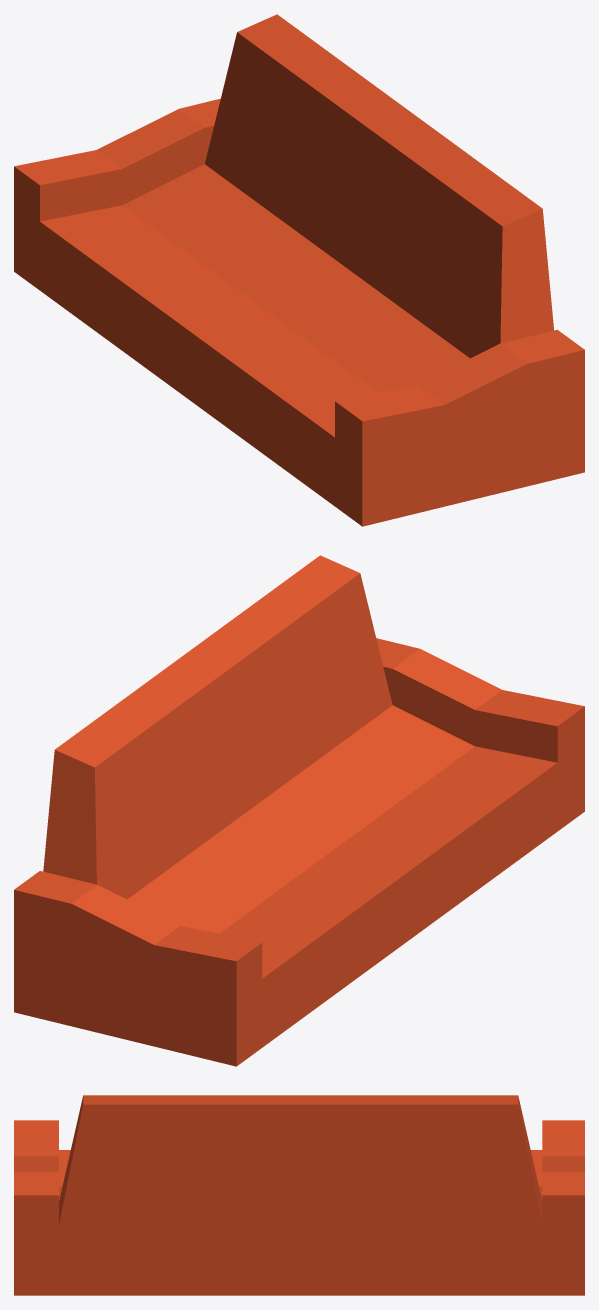
File: Sofa.glb
The picture shows the model from 3 angles, top to bottom: view 1: azimuth 30°, elevation 25°; view 2: azimuth 150°, elevation 25°; view 3: azimuth 270°, elevation 25°; orthographic projection. The views are drawn at different scales.
Parts seen in each view (by area): view 1: Sofa-col; view 2: Sofa-col; view 3: Sofa-col.
Part boxes in pixels (left/top/right/bottom): Sofa-col: left=14, top=14, right=584, bottom=526; Sofa-col: left=14, top=555, right=584, bottom=1066; Sofa-col: left=14, top=1095, right=584, bottom=1295.
Bounding box in the file's own units: 2.7 × 2.7 × 7.32.
